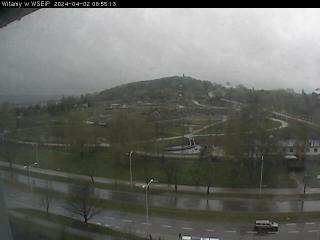car: (254, 218, 280, 233)
